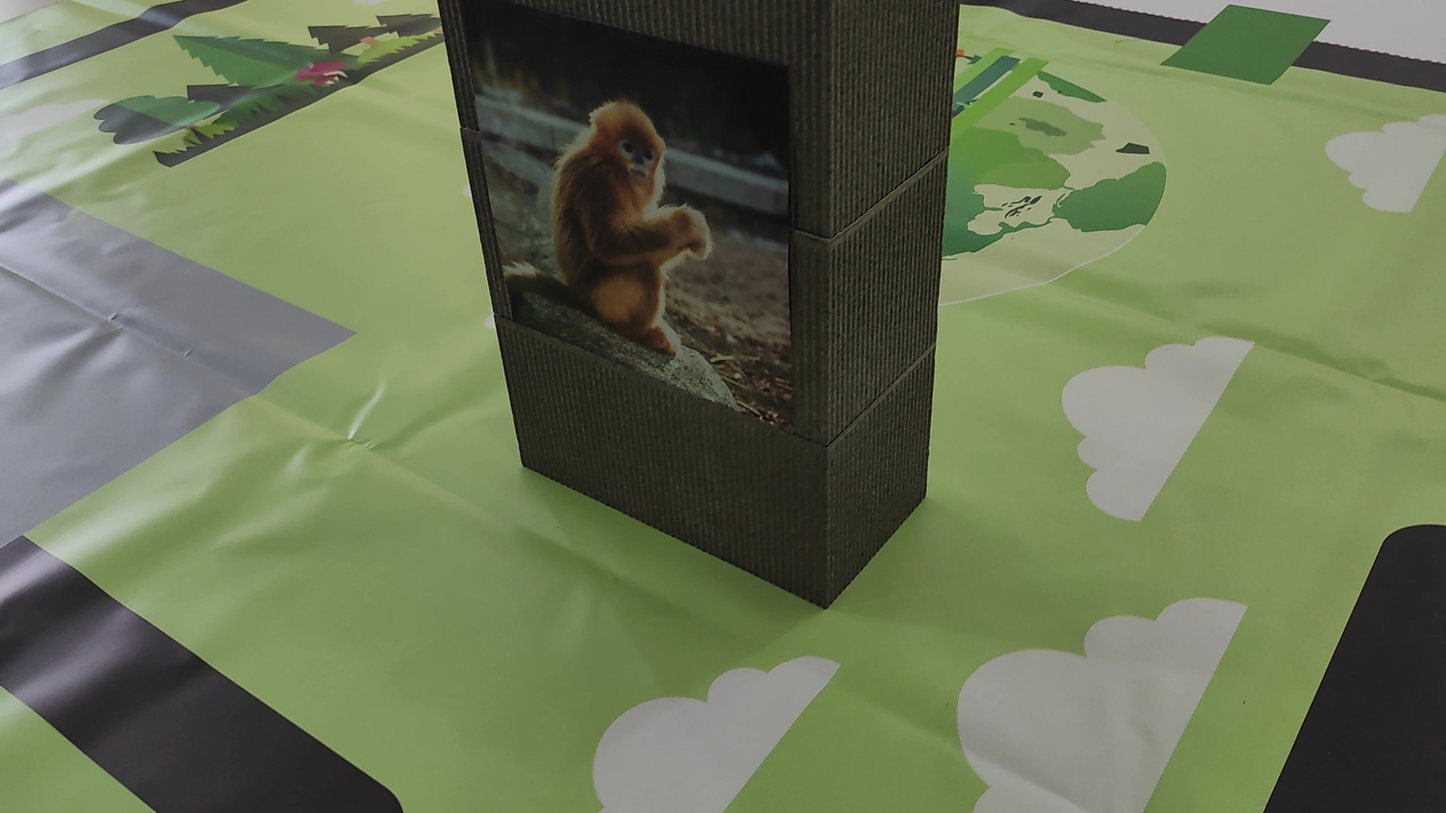monkey: (516, 61, 782, 349)
